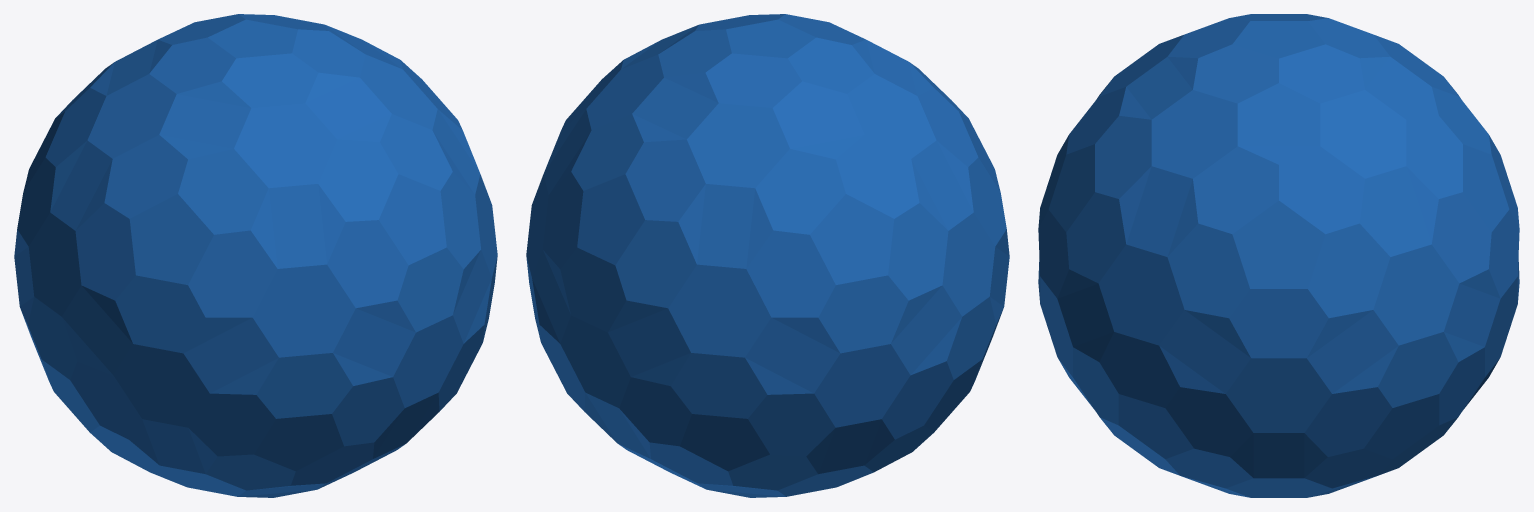
File: player.gltf
3 renders of one model, left to right at view 1: azimuth 30°, elevation 25°; view 2: azimuth 150°, elevation 25°; view 3: azimuth 270°, elevation 25°, orthographic.
Visible parts, largest first — view 1: player; view 2: player; view 3: player.
Boxes of the visible parts, x1=… form: player: x1=14, y1=14, x2=497, y2=497; player: x1=526, y1=14, x2=1009, y2=497; player: x1=1038, y1=14, x2=1519, y2=497.
Size of the model in its own units: 1.9 by 1.89 by 1.89.
Materials: 1 (1 with a texture image).
